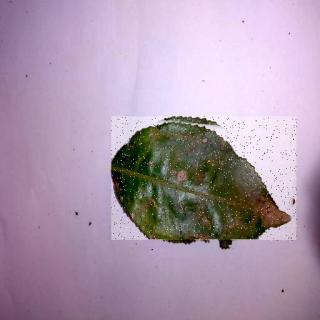Anthracnose: (113, 118, 298, 242)
